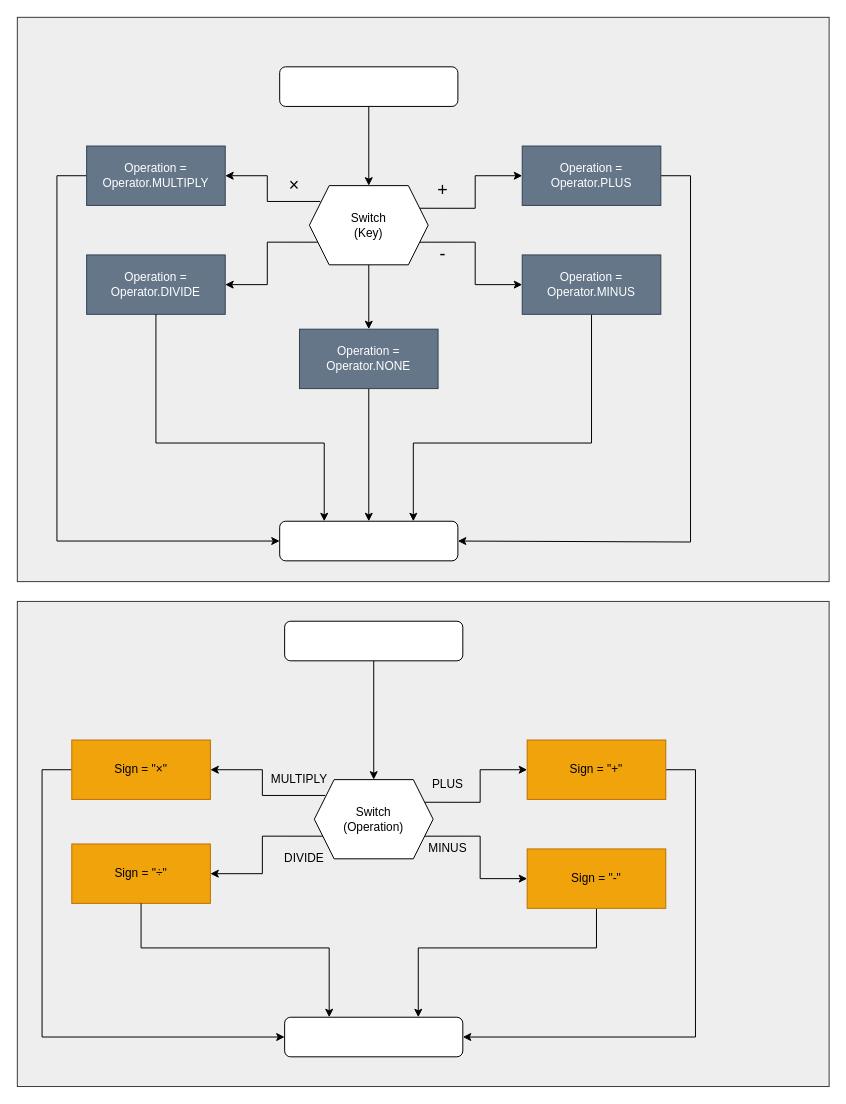
The diagram is 846 pixels wide and 1104 high, and some of its shapes have lost their labels. Each missing label, with the box of its shape:
Operator.Get(Key) : Operator: (279, 66, 458, 106)
Operator.Sign(Operation) : Char: (284, 620, 463, 661)
Return Operation: (279, 520, 458, 561)
Return Sign: (284, 1016, 463, 1057)
